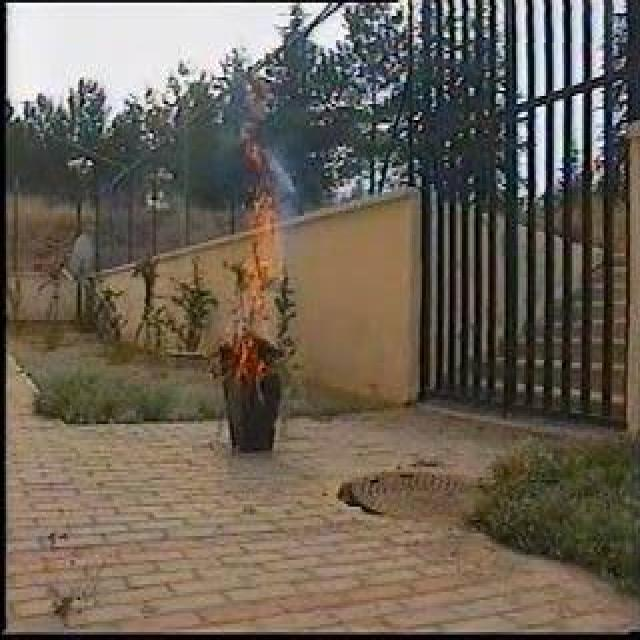fire: (238, 195, 272, 382)
